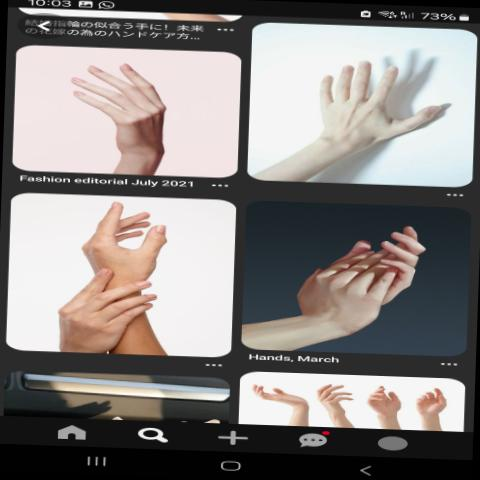hands: (47, 200, 216, 356), (296, 38, 470, 180), (286, 214, 440, 347), (42, 56, 214, 174)
